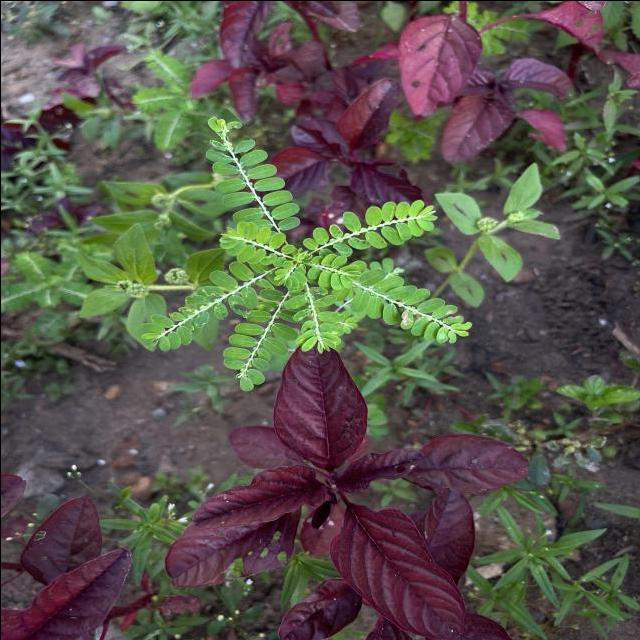Phyllanthus niruri: (138, 259, 265, 351), (204, 114, 302, 228), (346, 266, 472, 344), (220, 286, 302, 392), (302, 197, 441, 257), (282, 286, 345, 354), (215, 219, 298, 269), (306, 252, 360, 289)
